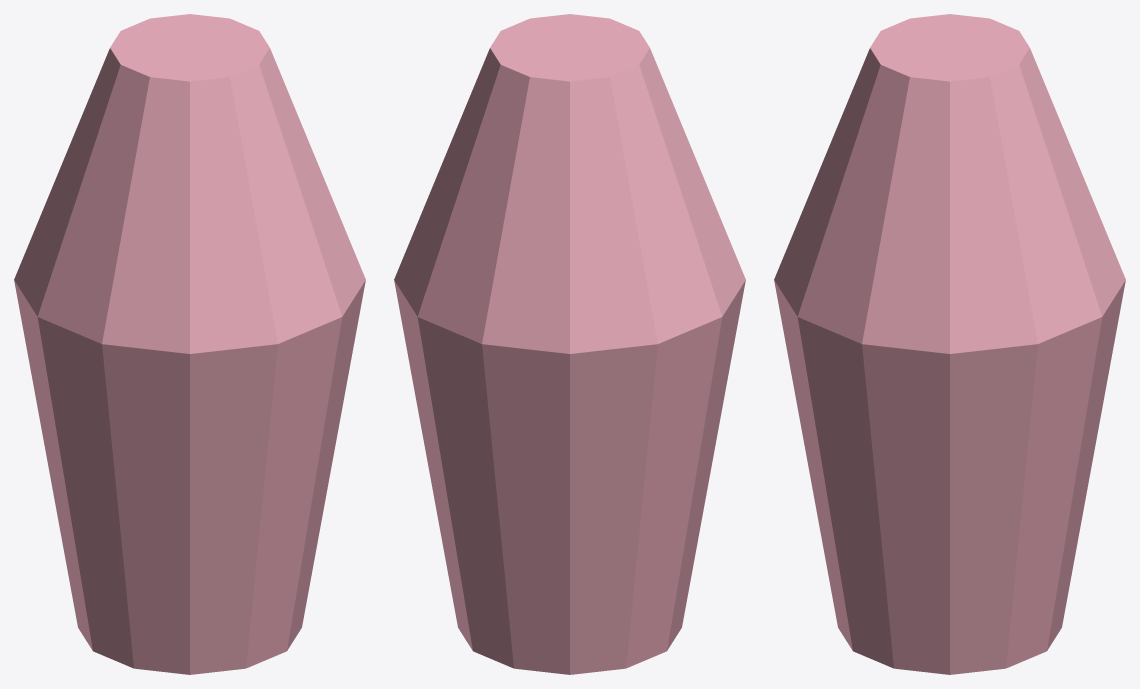
The model's file is sm_product_tall_vase.glb.
The picture shows the model from 3 angles, left to right: view 1: azimuth 30°, elevation 25°; view 2: azimuth 150°, elevation 25°; view 3: azimuth 270°, elevation 25°; orthographic projection.
Visible parts, largest first — view 1: tall_vase_0, tall_vase_1; view 2: tall_vase_0, tall_vase_1; view 3: tall_vase_0, tall_vase_1.
Part boxes in pixels (left/top/right/bottom): tall_vase_0: left=14, top=280, right=365, bottom=674; tall_vase_1: left=14, top=14, right=365, bottom=353; tall_vase_0: left=394, top=280, right=745, bottom=674; tall_vase_1: left=394, top=14, right=745, bottom=353; tall_vase_0: left=774, top=280, right=1125, bottom=674; tall_vase_1: left=774, top=14, right=1125, bottom=353.
Size of what is drawn, in the model's own units: 0.22 by 0.4 by 0.22.
